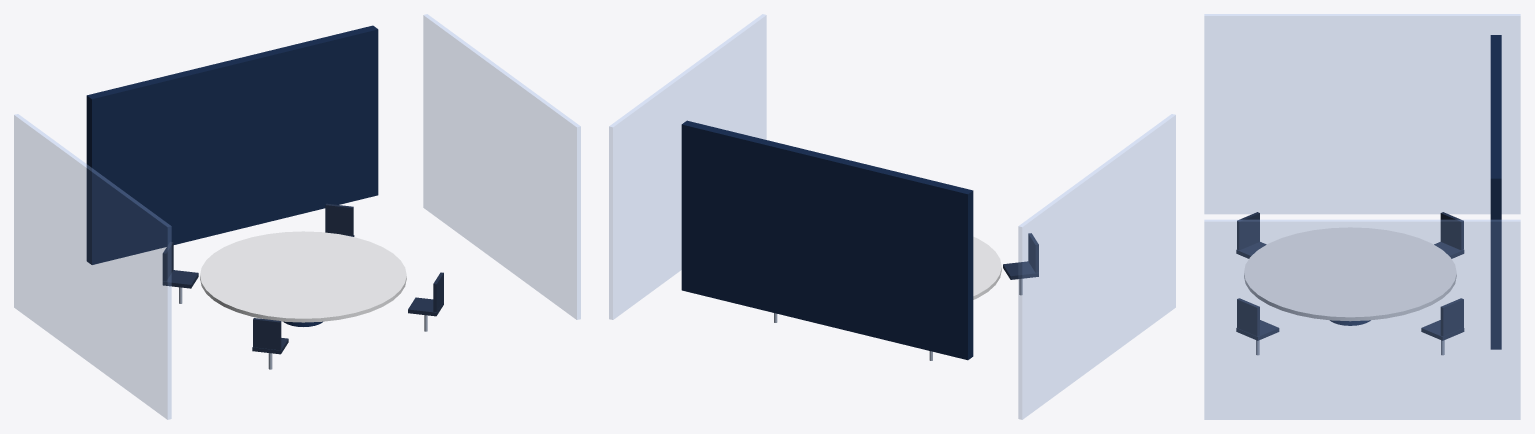
The model's file is opportunity-gallery.glb.
3 renders of one model, left to right at view 1: azimuth 30°, elevation 25°; view 2: azimuth 150°, elevation 25°; view 3: azimuth 270°, elevation 25°, orthographic. The views are drawn at different scales.
Visible parts, largest first — view 1: OpportunityGallery; view 2: OpportunityGallery; view 3: OpportunityGallery.
Boxes of the visible parts, <box> form: OpportunityGallery: <box>14,14,580,419</box>; OpportunityGallery: <box>609,14,1175,419</box>; OpportunityGallery: <box>1204,14,1520,419</box>.
Bounding box in the file's own units: 8.08 × 3.8 × 5.2.
